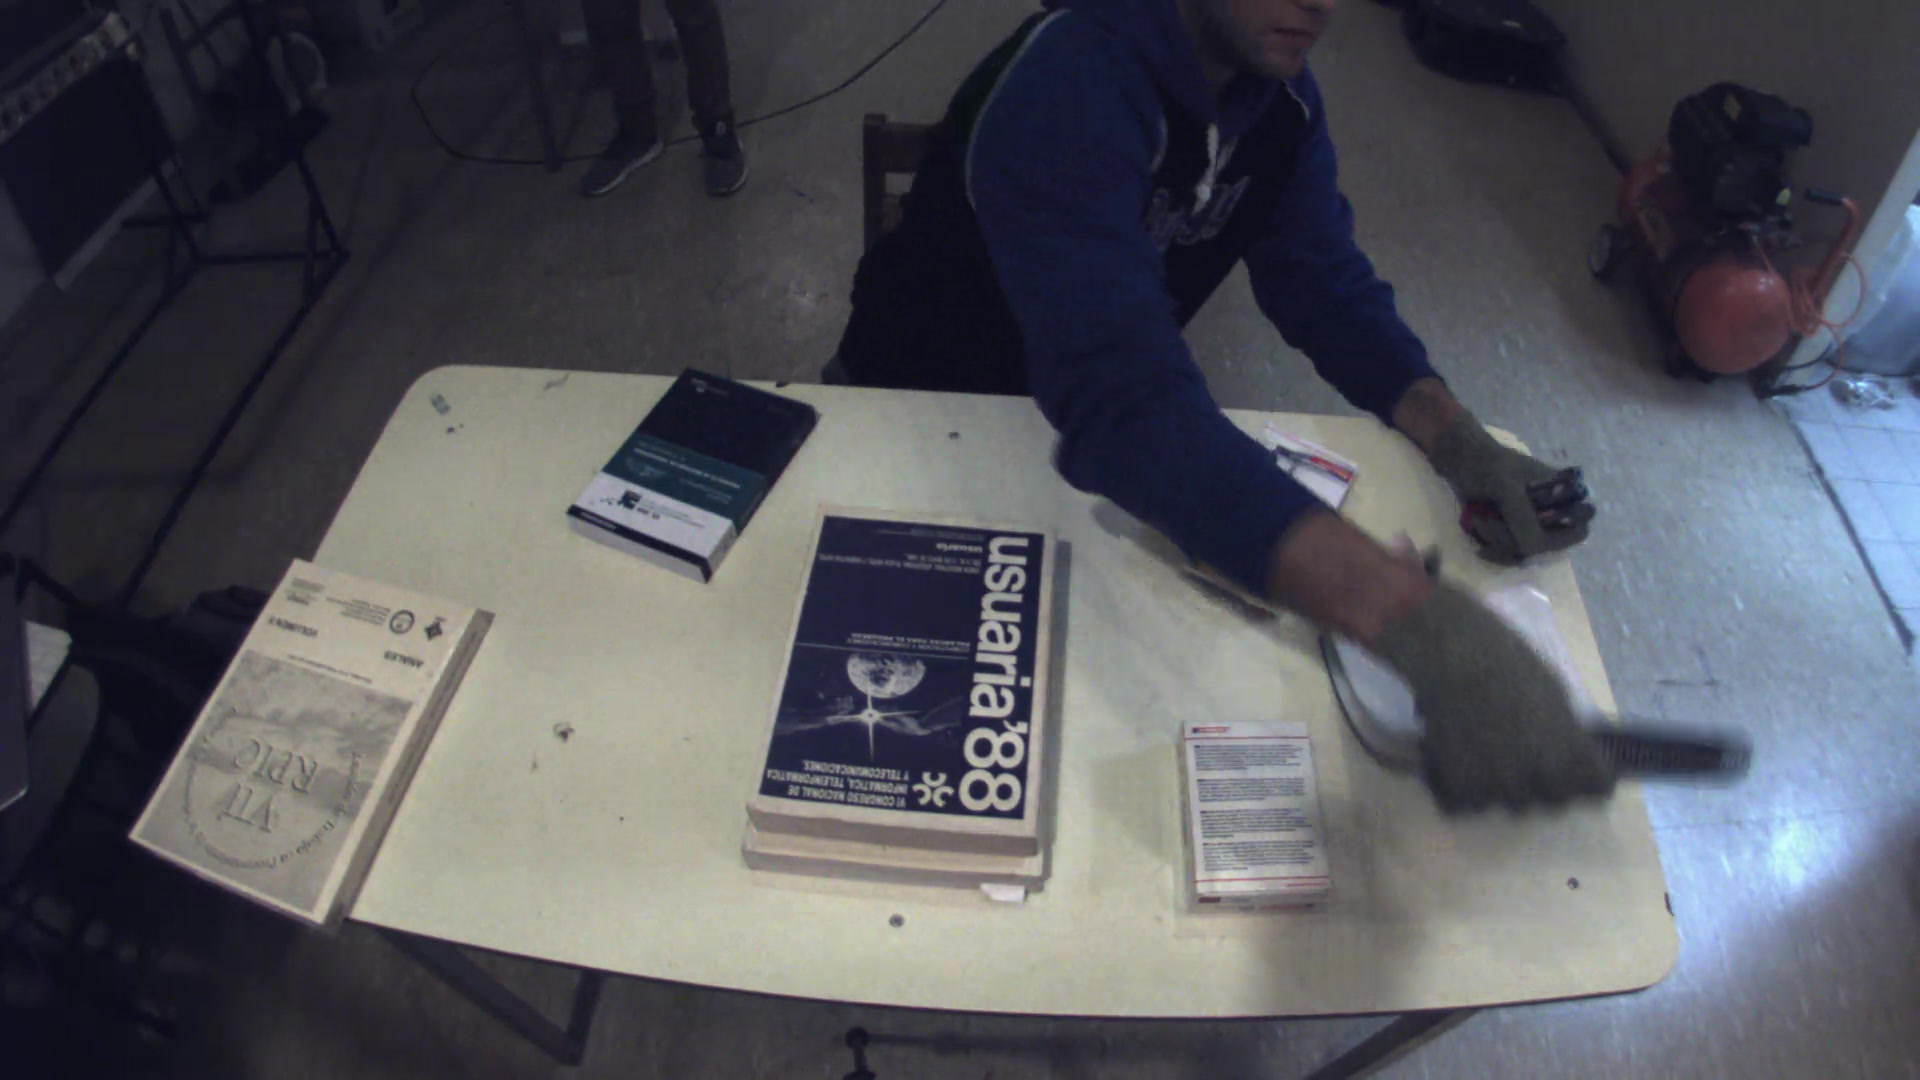hand: (1389, 600, 1619, 825), (1408, 385, 1597, 563), (1280, 514, 1445, 651)
